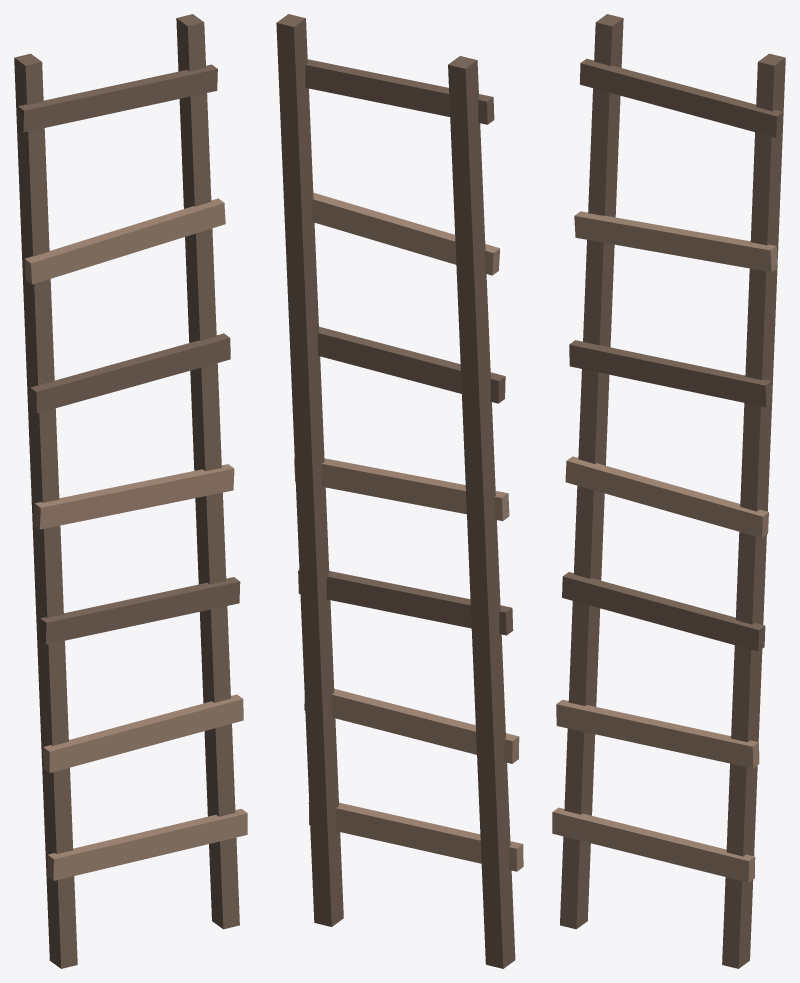
The model's file is Ladder.glb.
3 views of the same model, side by side, from view 1: azimuth 30°, elevation 25°; view 2: azimuth 150°, elevation 25°; view 3: azimuth 330°, elevation 25° (orthographic). The views are drawn at different scales.
Parts seen in each view (by area): view 1: Ladder; view 2: Ladder; view 3: Ladder.
Boxes of the visible parts, x1,y1,x2,y2 form: Ladder: (14, 14, 247, 968); Ladder: (276, 14, 523, 968); Ladder: (552, 14, 785, 968).
Size of what is drawn, in the model's own units: 0.7401 by 3.13 by 0.3054.
Materials: 1 (1 with a texture image).
